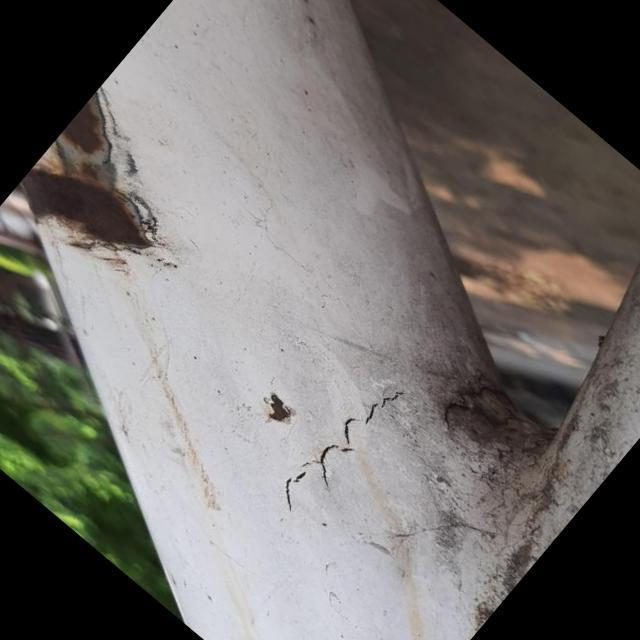defect: (279, 382, 405, 516)
